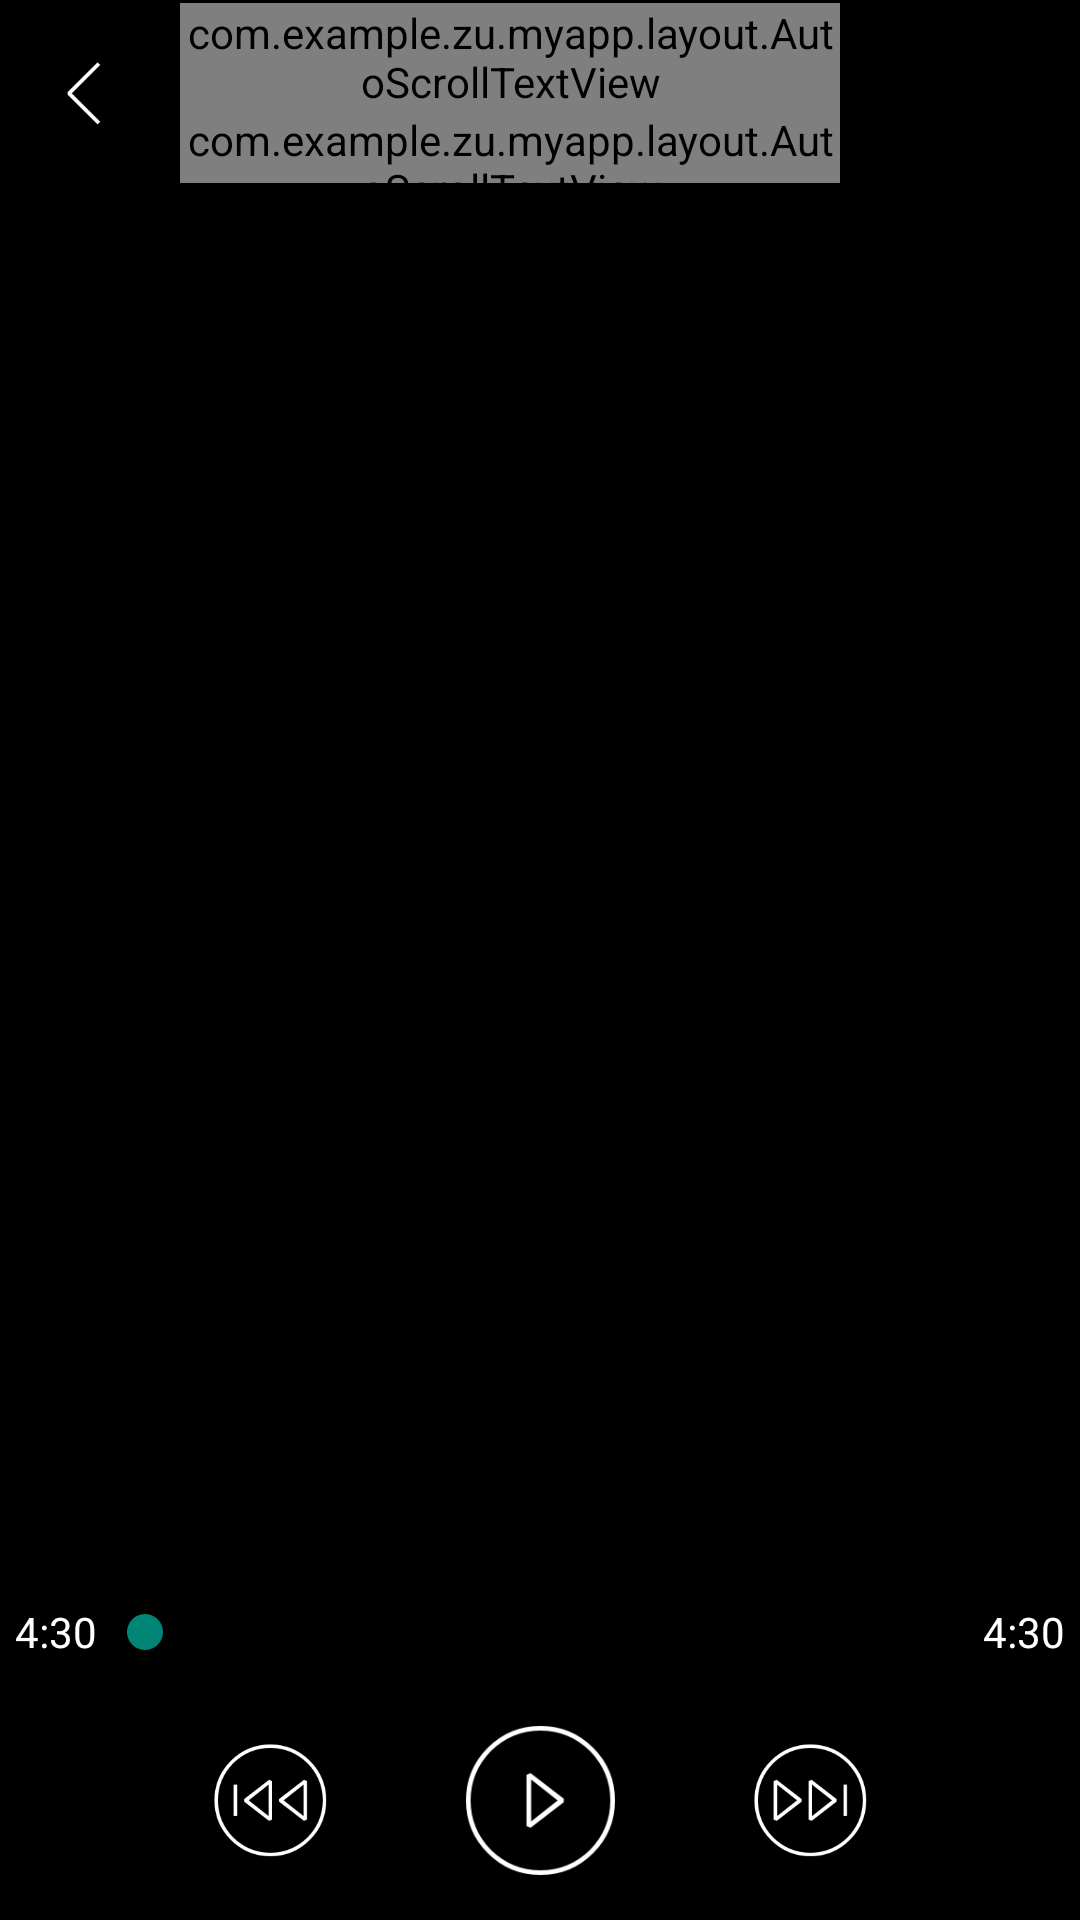

Named icons in this screenshot (1080px x 1920px) and their bounding boxes, bbox=(x1, y1, x2, y2):
play activity back: bbox=(67, 62, 100, 125)
play activity next: bbox=(754, 1744, 867, 1857)
play activity previous: bbox=(214, 1744, 327, 1857)
